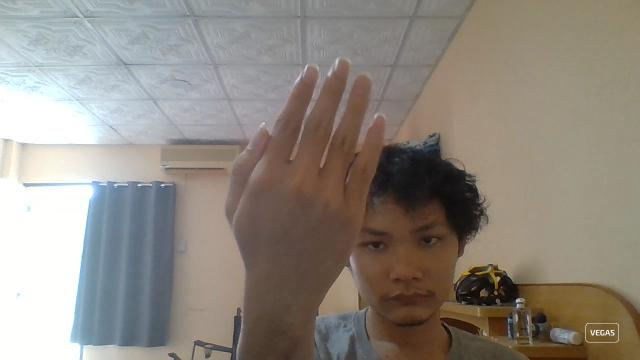backword: (224, 56, 386, 318)
